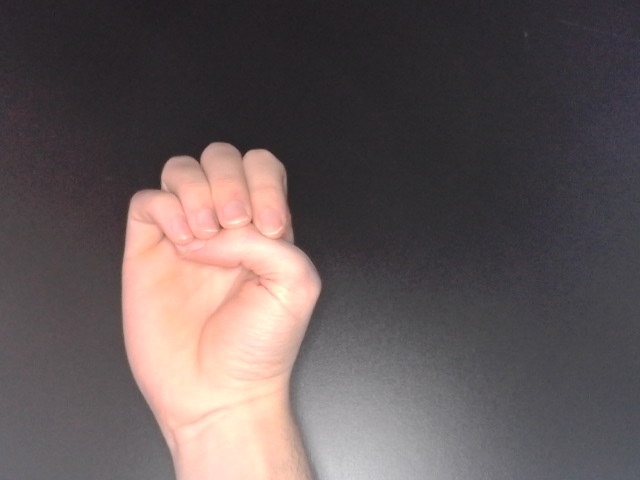e: (114, 138, 327, 432)
